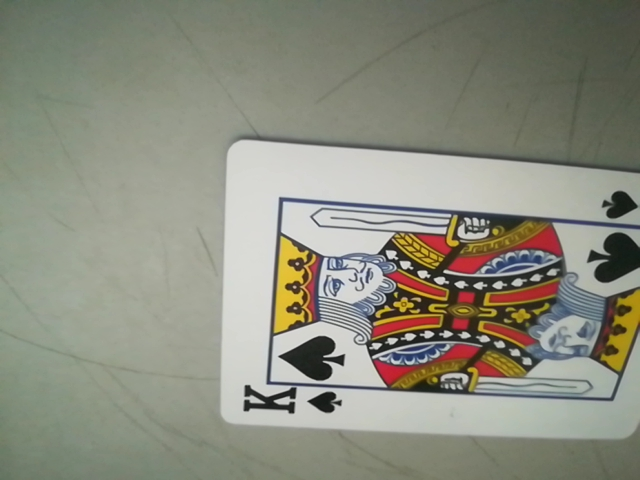ht k: (232, 382, 351, 423)
